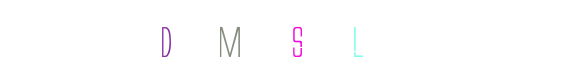D: (165, 0, 245, 80)
L: (257, 0, 337, 80)
M: (222, 0, 302, 80)
S: (245, 0, 325, 80)
